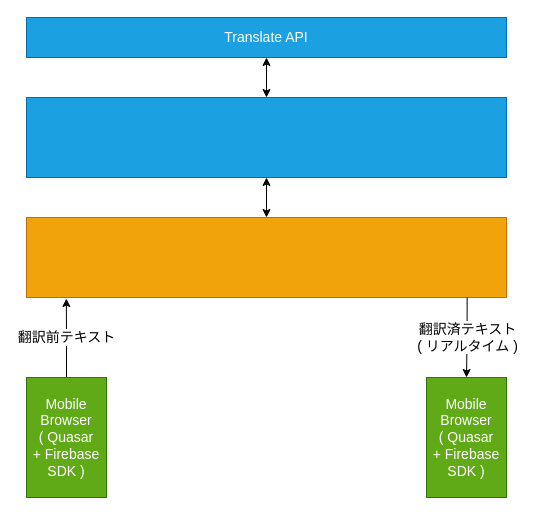
Image size: 535x515. Some labels were removed from this diagram. Each missing label, with the centre of its shape:
"Firebase Cloud Firestore" goes at [266,257].
"Node.js Server ( Firebase SDK )" goes at [266,137].
